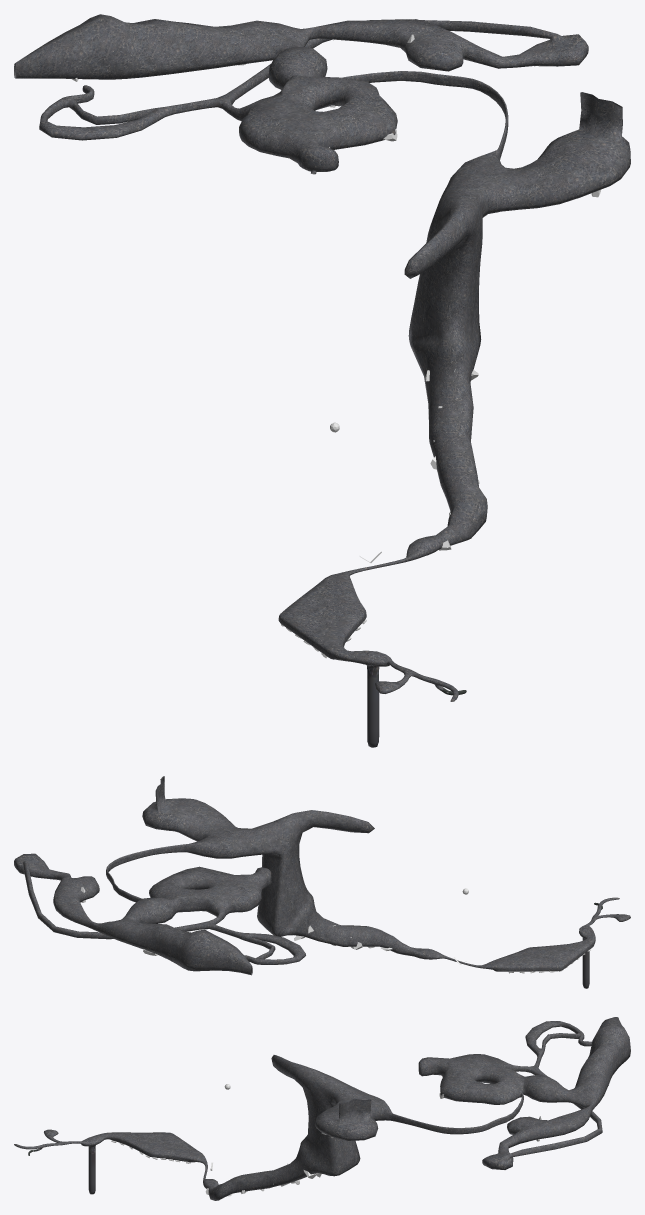
File: TheCave (1).fbx
3 views of the same model, one above another, from view 1: azimuth 30°, elevation 25°; view 2: azimuth 150°, elevation 25°; view 3: azimuth 270°, elevation 25° (orthographic). The views are drawn at different scales.
Visible parts, largest first — view 1: Cave_sclpt.002; view 2: Cave_sclpt.002; view 3: Cave_sclpt.002.
Boxes of the visible parts, x1,y1,x2,y2 form: Cave_sclpt.002: (14,14,630,747); Cave_sclpt.002: (14,776,630,988); Cave_sclpt.002: (14,1017,630,1200).
Bounding box in the file's own units: 13301 × 8198 × 20405.
